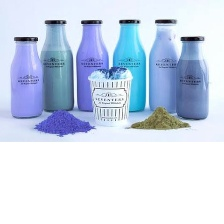bottle: (147, 6, 183, 112), (74, 13, 112, 112), (110, 14, 147, 114), (174, 25, 211, 121), (39, 16, 74, 115), (6, 32, 44, 120)
paper_cup: (82, 73, 140, 128)
